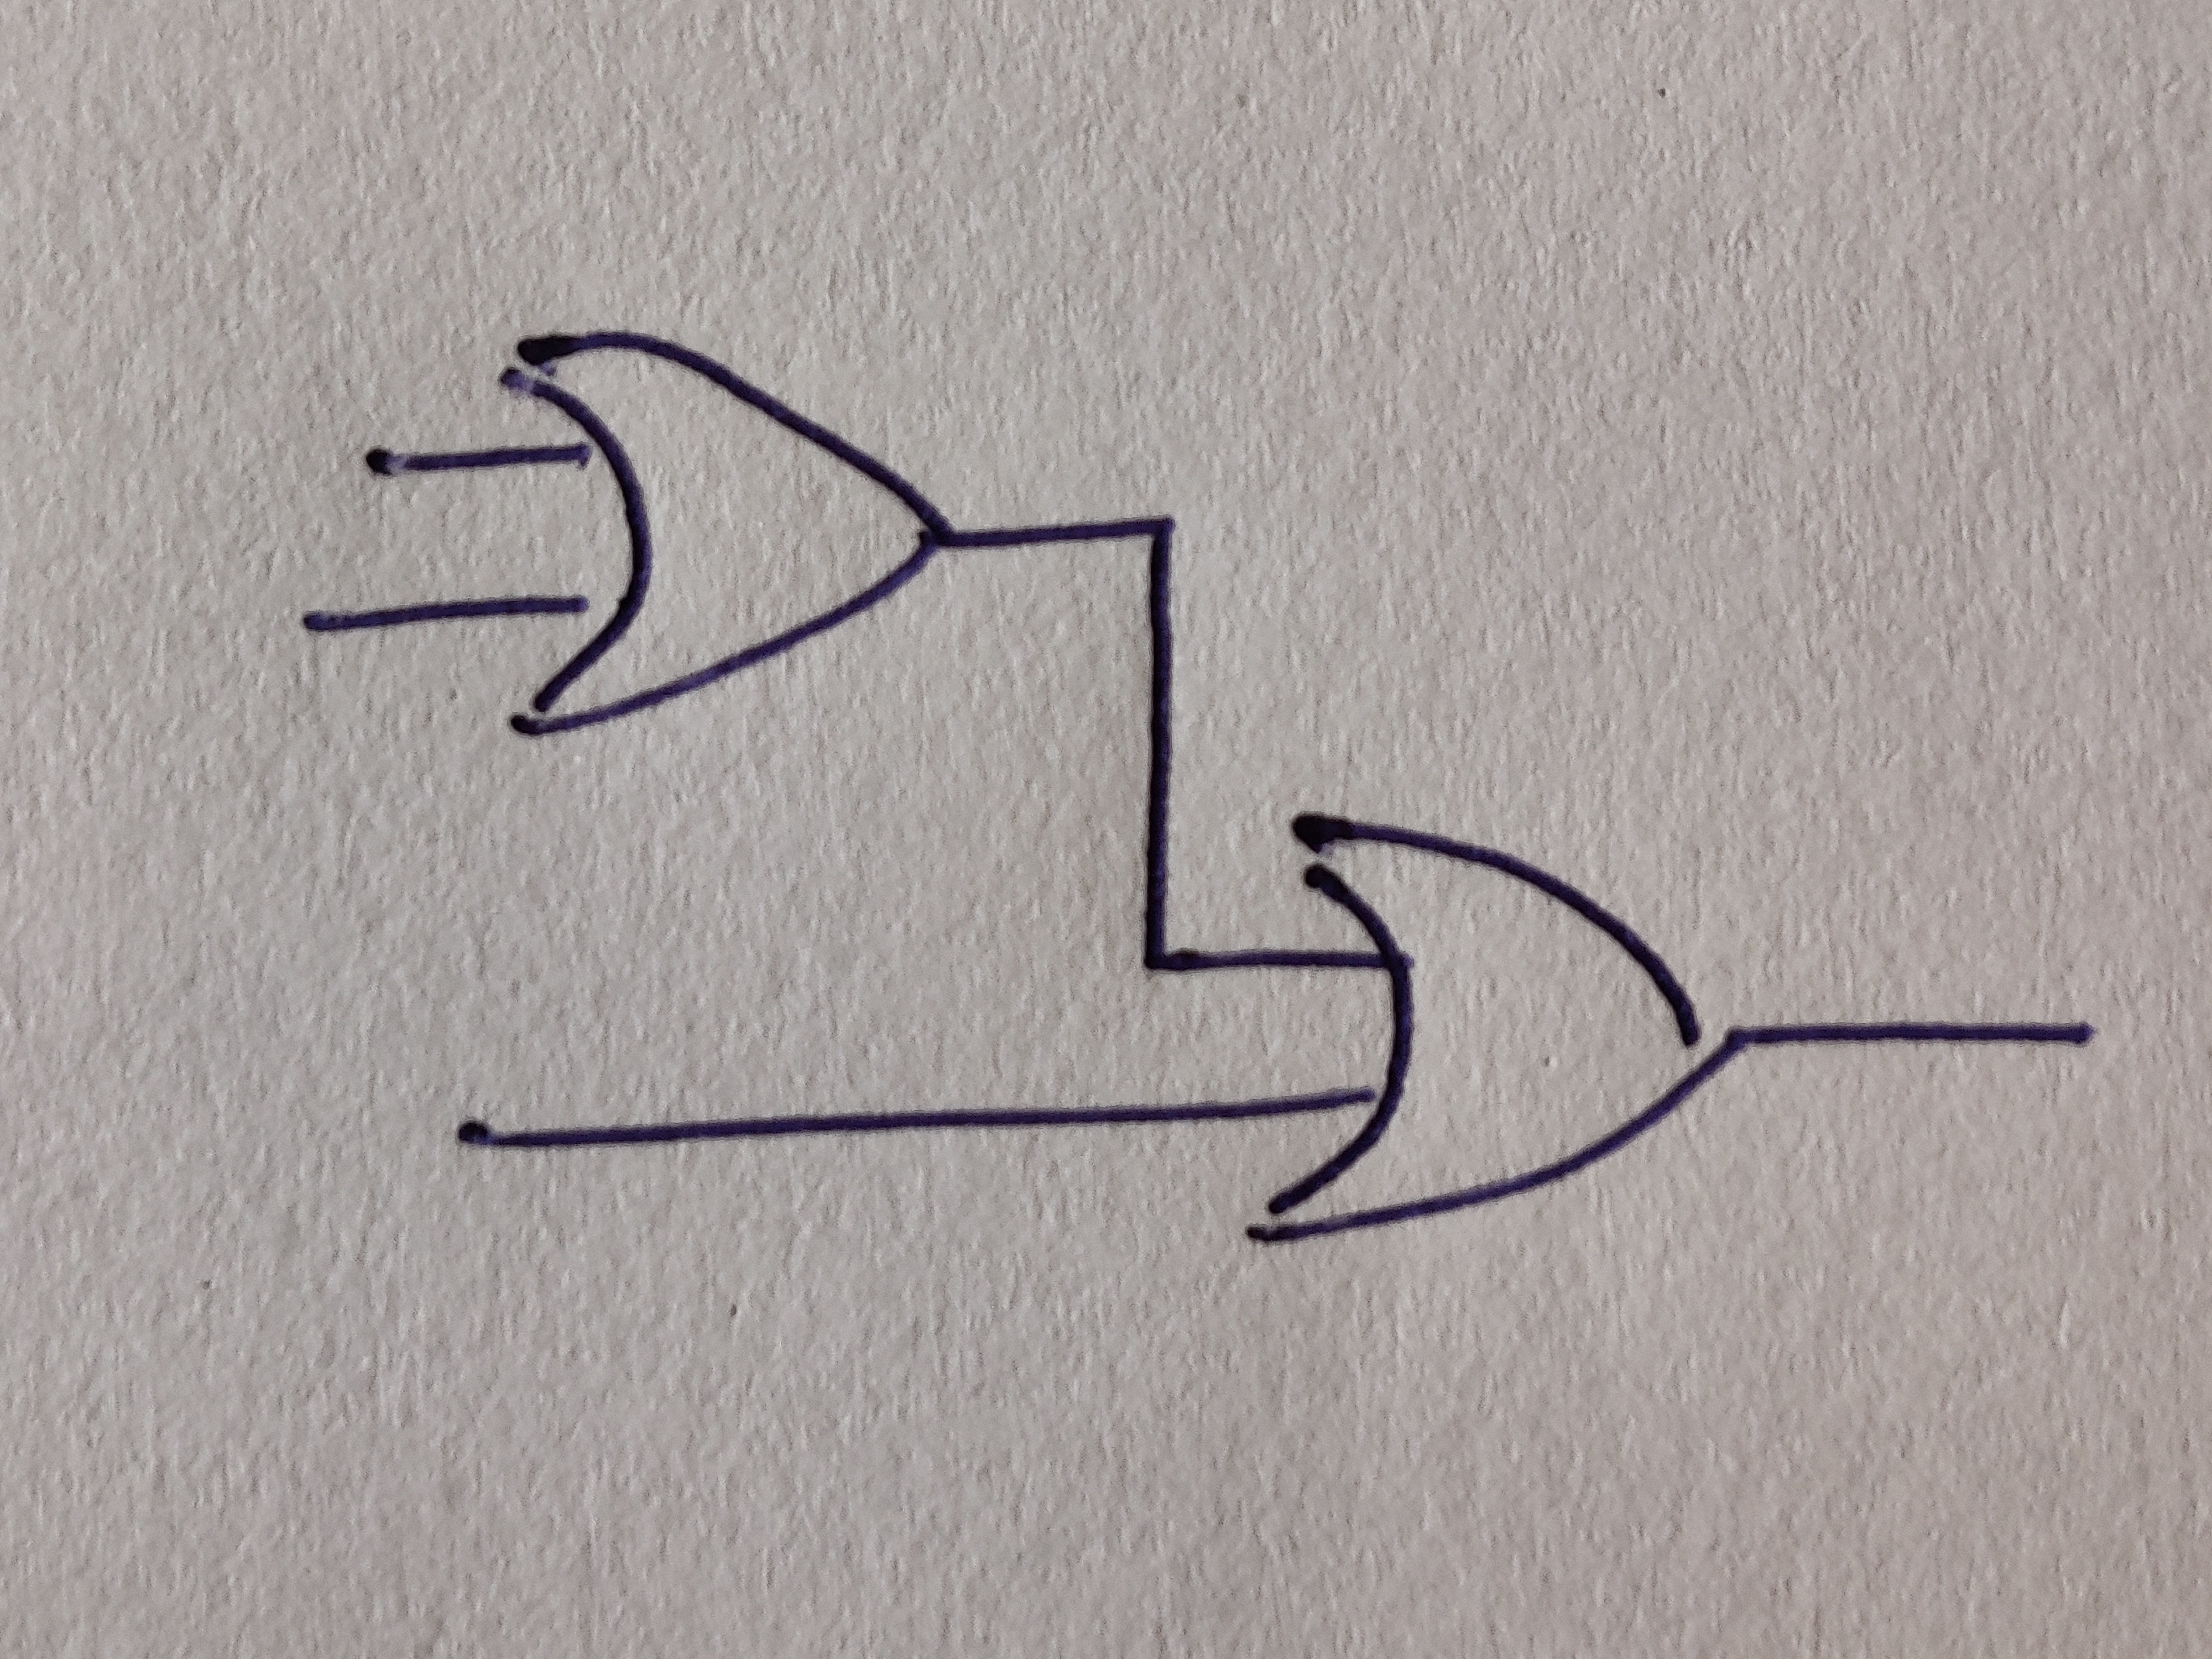or: (1247, 812, 1743, 1244), (500, 329, 956, 737)
